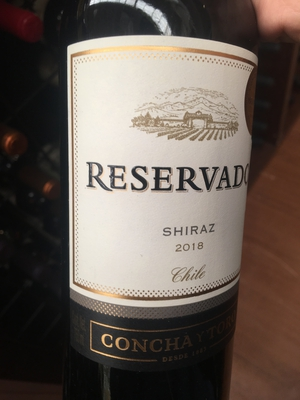reservado shiraz: (61, 5, 257, 400)
